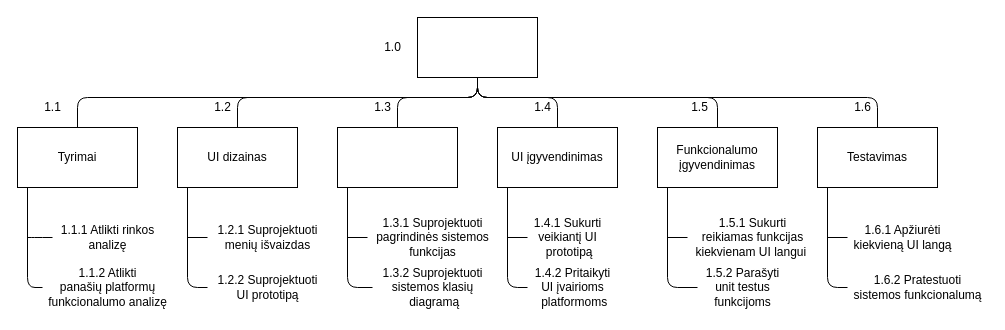
Image size: 1005x330. Some labels were removed from this diagram. The centre of each missing label's shape, as x and y in pixels:
"Funkcijų dizainas" belongs at (x=397, y=157).
"Sukurti programėlę" belongs at (x=477, y=47).
